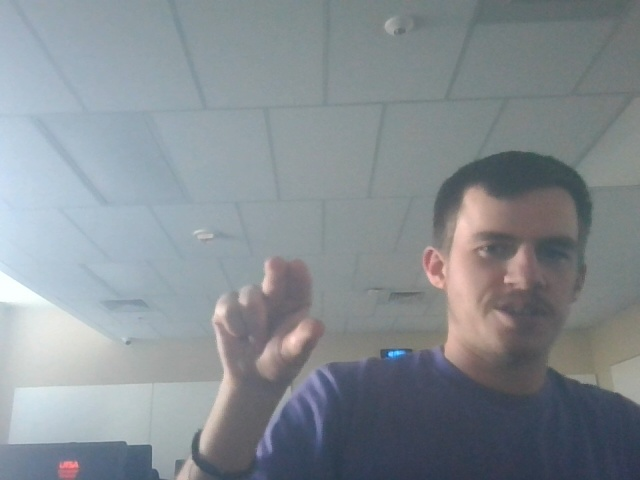no: (202, 245, 339, 386)
